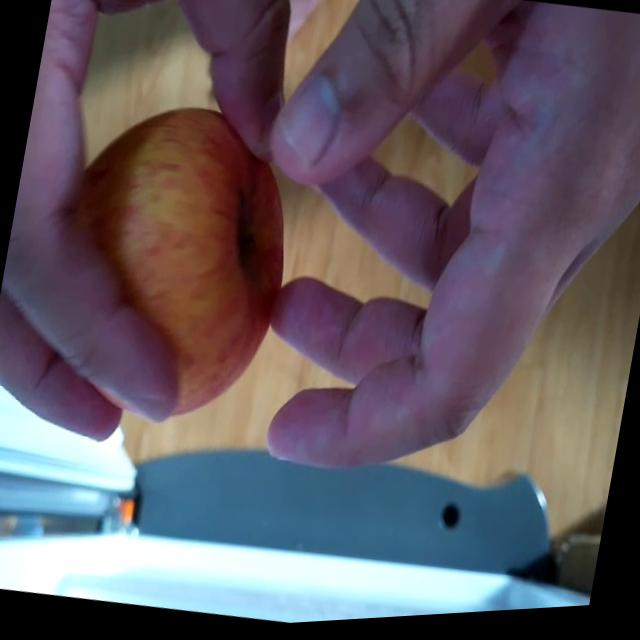apple: (48, 87, 304, 440)
